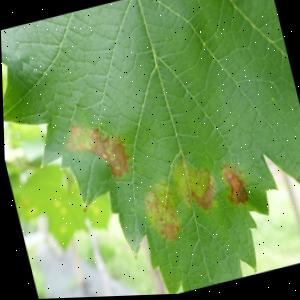Folha: (0, 0, 300, 300)
Fungo: (58, 112, 131, 189), (165, 149, 219, 217), (136, 179, 182, 248), (182, 166, 219, 214), (215, 158, 249, 209), (222, 168, 239, 197)
